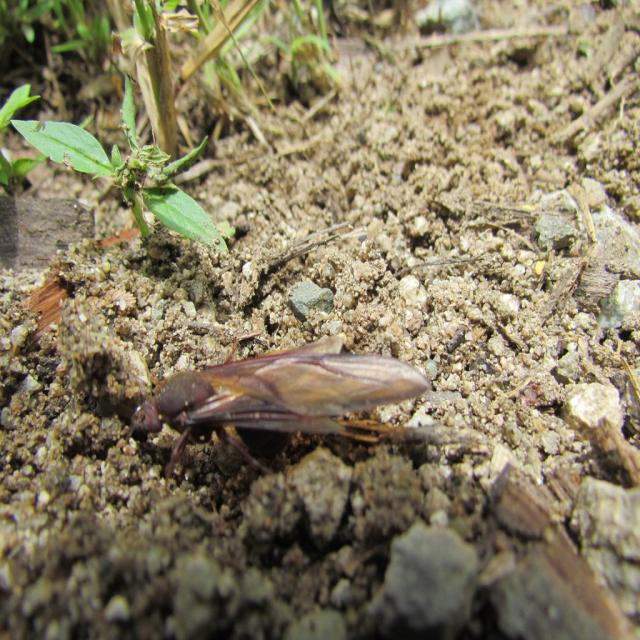Alive-Female-Alate: (103, 334, 461, 498)
